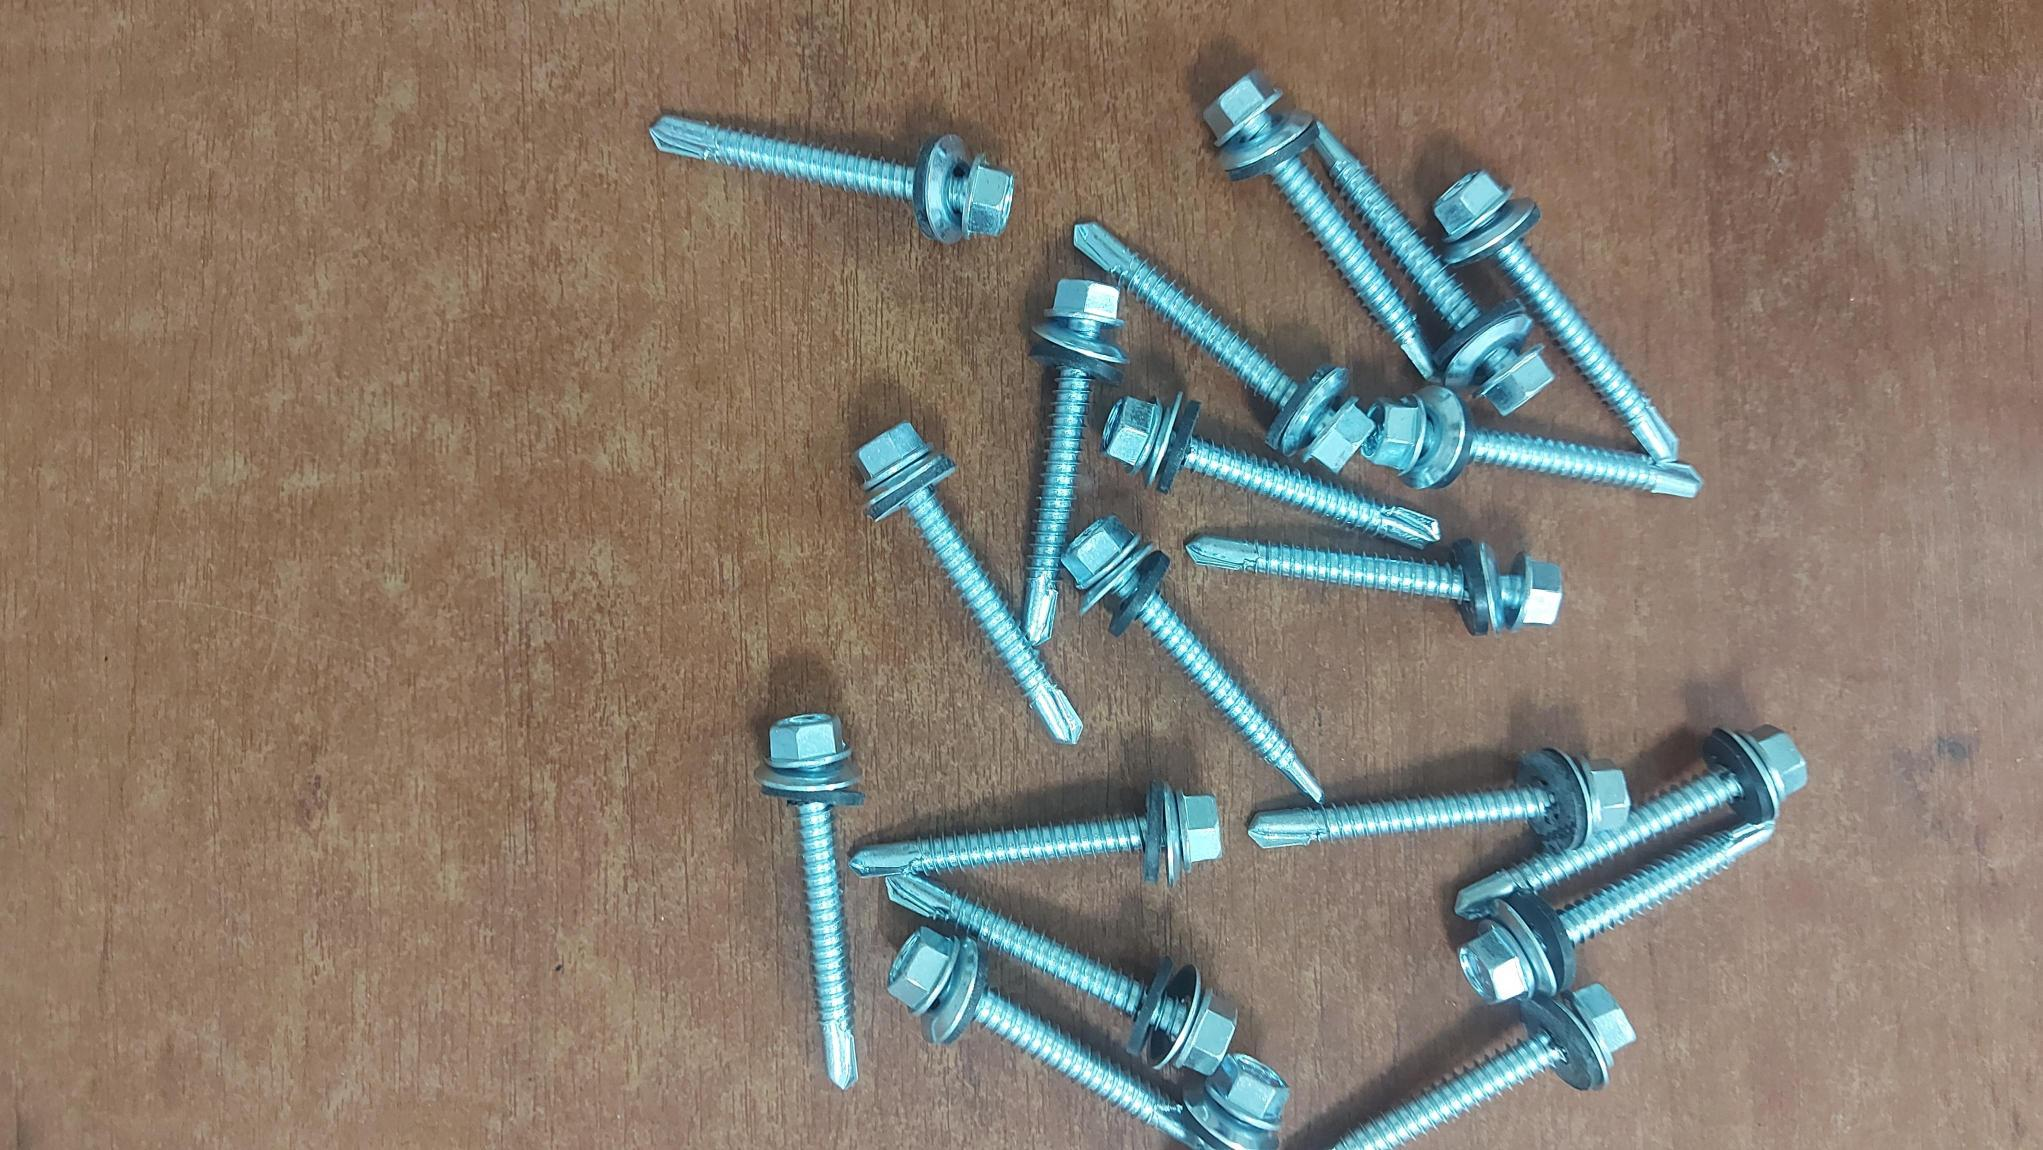Screw: (888, 927, 1288, 1149), (1075, 222, 1372, 471), (1065, 517, 1323, 801), (857, 422, 1080, 743), (1203, 70, 1434, 379), (1434, 170, 1678, 461), (887, 874, 1238, 1073), (1313, 125, 1552, 412), (1456, 726, 1806, 917), (1461, 822, 1774, 1001), (1101, 394, 1440, 547), (1334, 985, 1635, 1149), (650, 115, 1013, 243), (756, 715, 862, 1088), (1247, 747, 1629, 848), (1021, 279, 1125, 645), (1361, 386, 1701, 496), (1186, 534, 1562, 634), (850, 783, 1221, 884)
